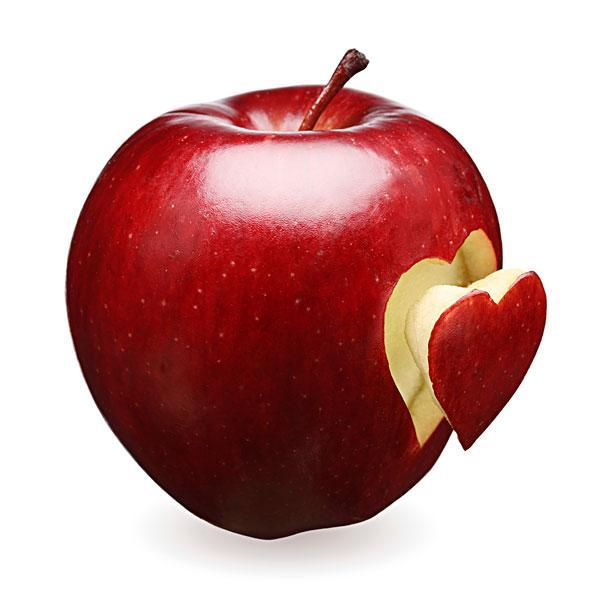apple: (64, 48, 531, 539)
